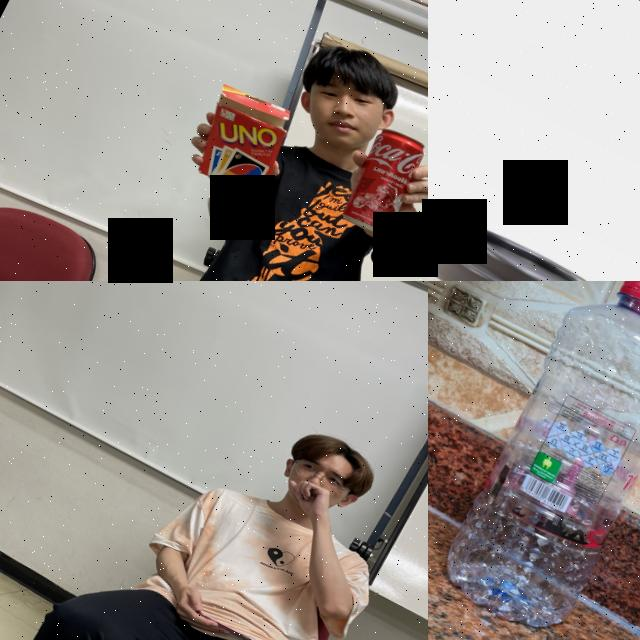bottle: (428, 281, 640, 640)
can: (333, 121, 428, 241)
cup: (428, 197, 632, 281)
